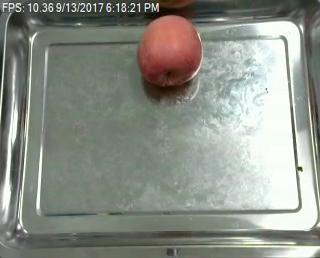apple: (139, 15, 204, 89)
